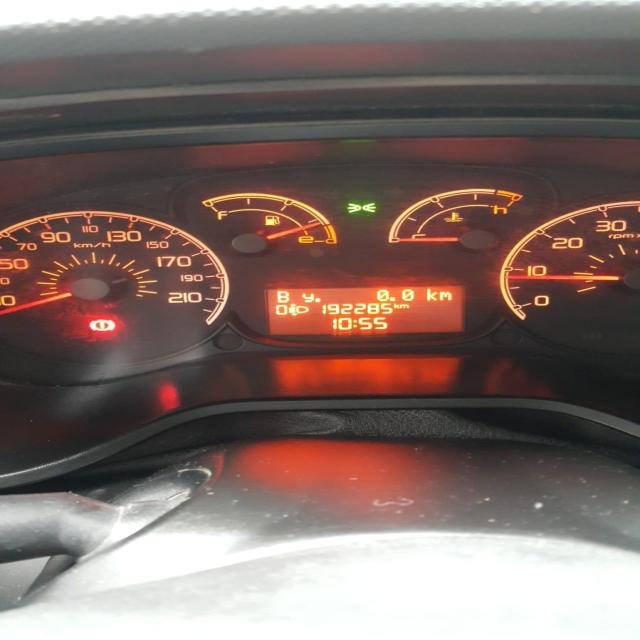odometer: (263, 284, 470, 336)
